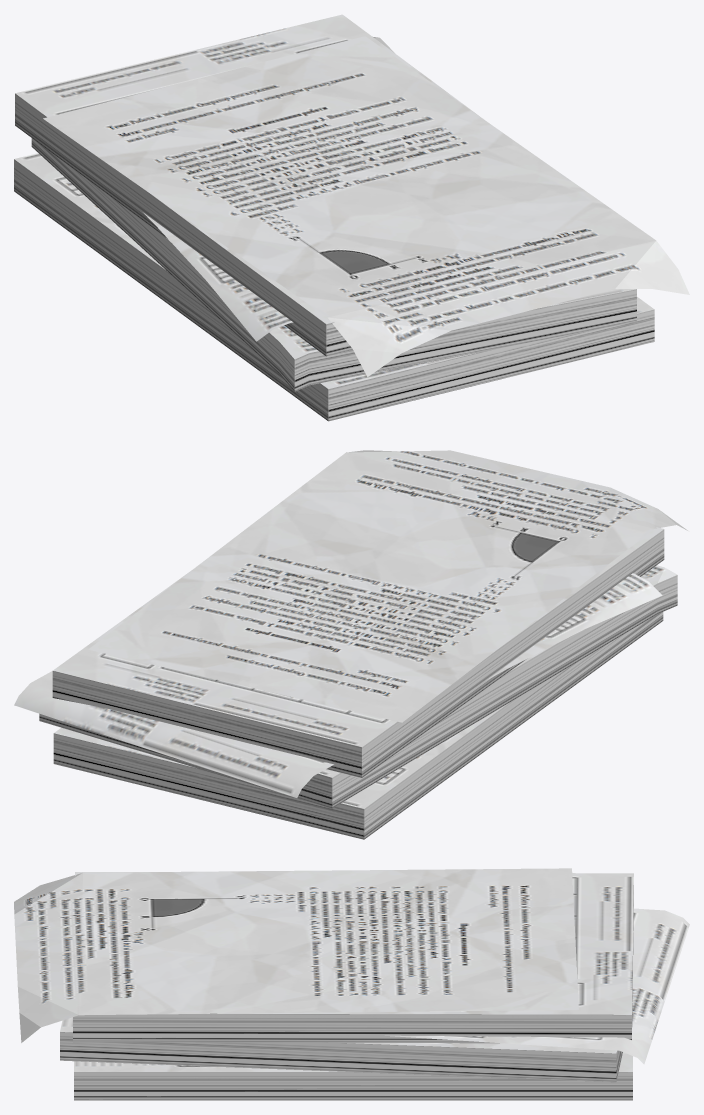
Rendered from _Paper_Stack2.fbx.
3 renders of one model, top to bottom at view 1: azimuth 30°, elevation 25°; view 2: azimuth 150°, elevation 25°; view 3: azimuth 270°, elevation 25°, orthographic. The views are drawn at different scales.
Visible parts, largest first — view 1: Cube.002; view 2: Cube.002; view 3: Cube.002.
Boxes of the visible parts, x1,y1,x2,y2 form: Cube.002: [14, 14, 689, 421]; Cube.002: [14, 450, 687, 839]; Cube.002: [14, 868, 689, 1100].
Size of the model in its own units: 18.26 by 4.36 by 30.27.
1 material, 1 textured.
